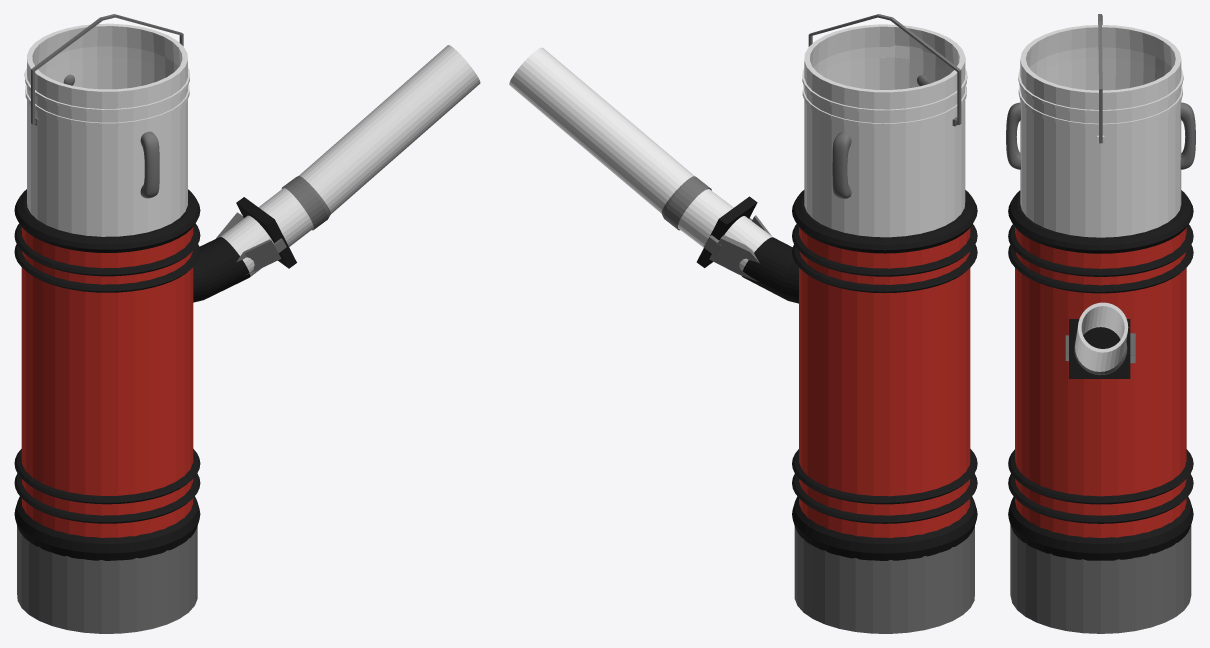
File: Dispenser.fbx
3 views of the same model, side by side, from view 1: azimuth 30°, elevation 25°; view 2: azimuth 150°, elevation 25°; view 3: azimuth 270°, elevation 25° (orthographic).
Parts seen in each view (by area): view 1: Torus, Cylinder.002, Cylinder.003, Cylinder.001; view 2: Torus, Cylinder.002, Cylinder.003, Cylinder.001; view 3: Torus, Cylinder.002, Cylinder.001, Cylinder.003.
Part boxes in pixels (<box>): Torus: <box>14,189,200,560</box>; Cylinder.002: <box>24,14,189,236</box>; Cylinder.003: <box>193,45,480,302</box>; Cylinder.001: <box>17,526,197,633</box>; Torus: <box>792,190,977,560</box>; Cylinder.002: <box>802,14,967,237</box>; Cylinder.003: <box>509,47,798,303</box>; Cylinder.001: <box>794,526,974,633</box>; Torus: <box>1008,190,1193,560</box>; Cylinder.002: <box>1006,14,1195,237</box>; Cylinder.001: <box>1010,525,1191,633</box>; Cylinder.003: <box>1065,302,1135,378</box>.
Size of the model in its own units: 603 by 744 by 221.
